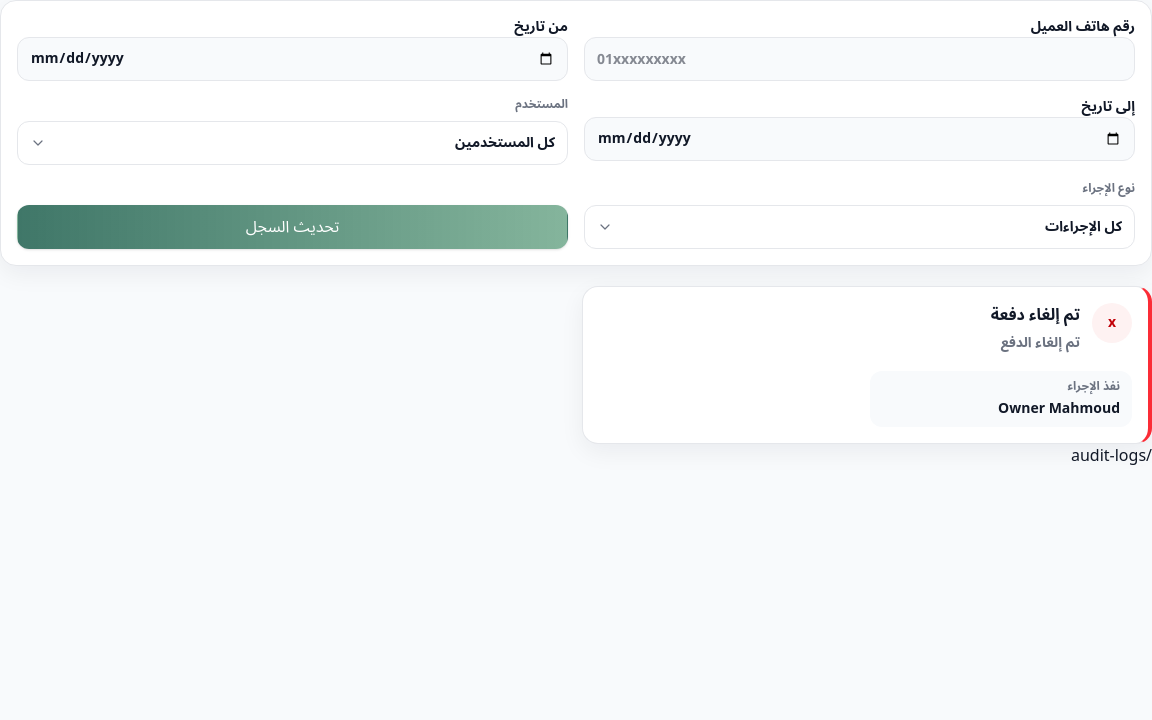
Test: AuditLogsPage › keeps the activity list usable when detail loading fails and supports retry
Click the button with aria-label "عرض تفاصيل النشاط: تم إلغاء دفعة" at point(1112, 323), box [599, 303, 1132, 427]
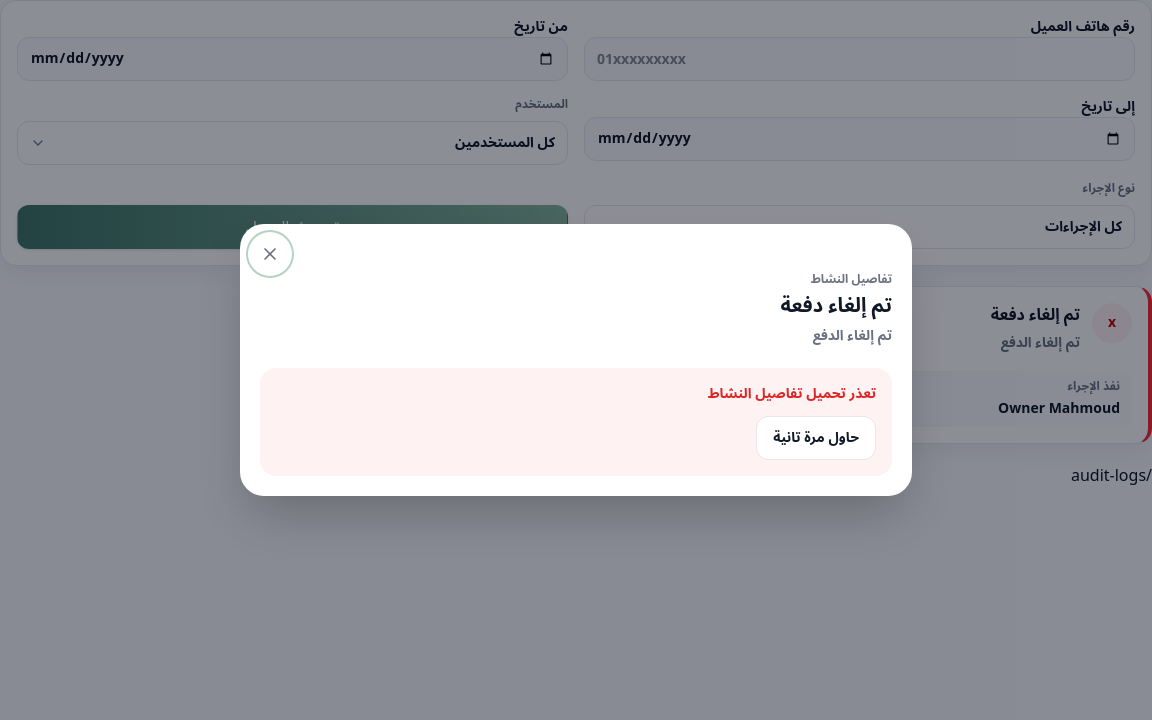
expect the 2nd text "تم إلغاء الدفع" is shown: met, box [991, 331, 1080, 355]
expect the text "تعذر تحميل تفاصيل النشاط" is shown: met, box [708, 379, 876, 408]
Click the button "حاول مرة تانية" at point(816, 438), box [756, 416, 876, 460]
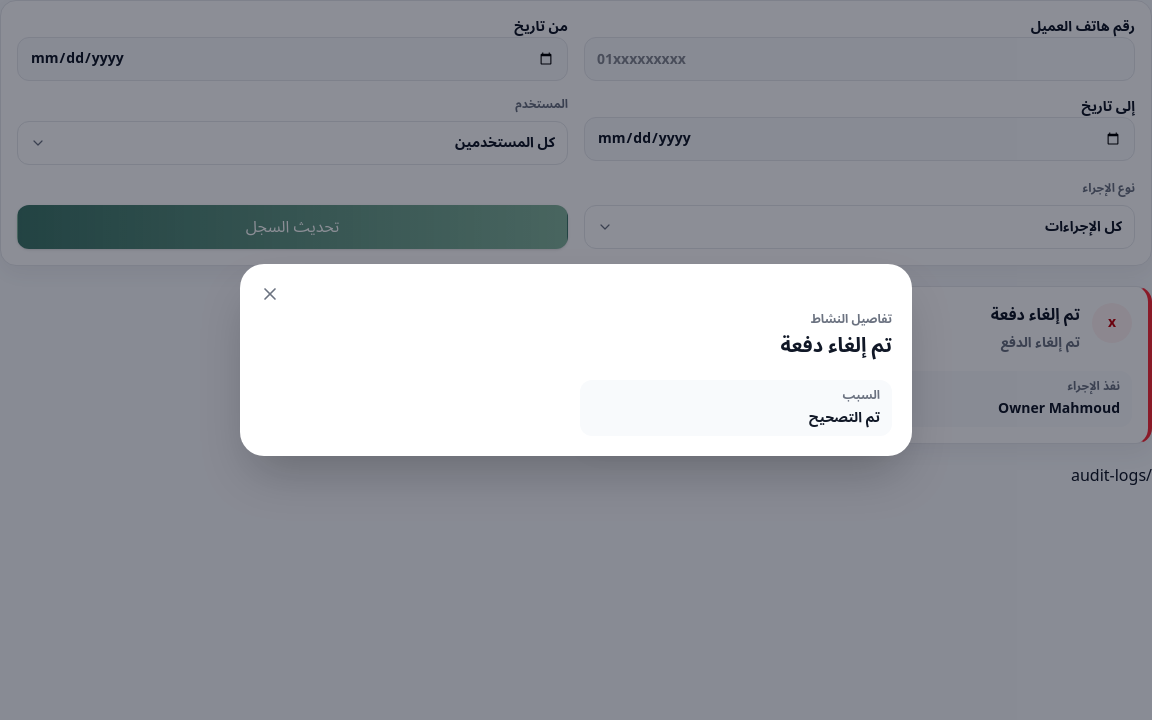
expect the text "تم التصحيح" is shown: met, box [809, 403, 880, 432]
